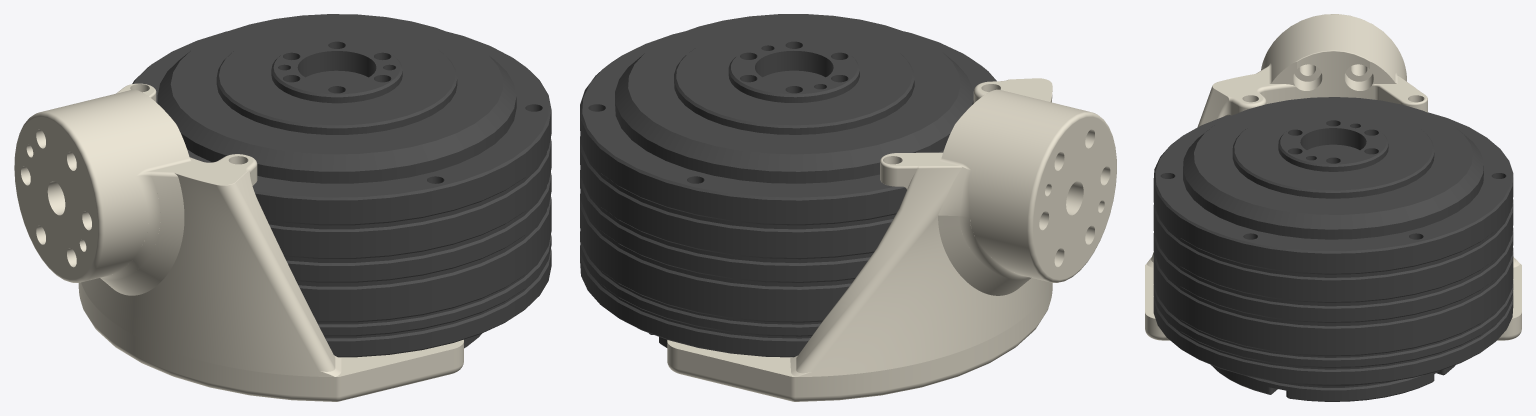
File: l_hip_roll_link.dae
3 renders of one model, left to right at view 1: azimuth 30°, elevation 25°; view 2: azimuth 150°, elevation 25°; view 3: azimuth 270°, elevation 25°, orthographic. The views are drawn at different scales.
Parts seen in each view (by area): view 1: AK10-9V2-0, ab_ad motor bracket_mirror; view 2: AK10-9V2-0, ab_ad motor bracket_mirror; view 3: AK10-9V2-0, ab_ad motor bracket_mirror.
Part boxes in pixels (x1,y1,x2,y2): AK10-9V2-0: [132, 14, 551, 357]; ab_ad motor bracket_mirror: [14, 83, 463, 401]; AK10-9V2-0: [580, 14, 996, 357]; ab_ad motor bracket_mirror: [667, 78, 1116, 401]; AK10-9V2-0: [1153, 97, 1513, 401]; ab_ad motor bracket_mirror: [1145, 14, 1521, 340].
Size of the model in its own units: 0.123 by 0.066 by 0.1025.
